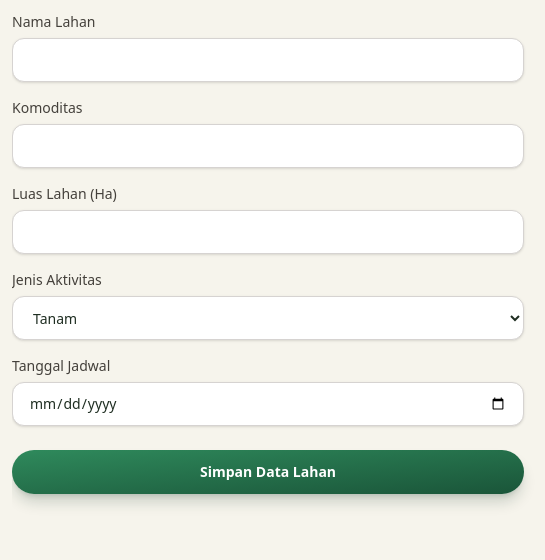
Test: FormEntryClient › submit valid mengirim POST, menampilkan pesan sukses, lalu mengosongkan form
Type "Sawah Uji" into the field labelled "Nama Lahan" at x=268, y=60, box x1=12 y1=38 x2=524 y2=82
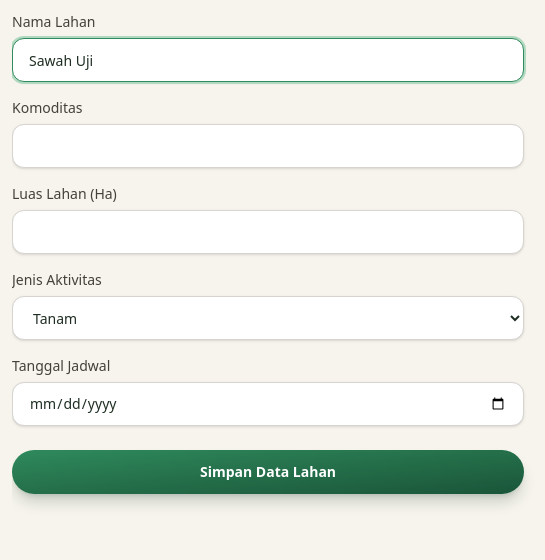
Type "Padi" into the field labelled "Komoditas" at x=268, y=146, box x1=12 y1=124 x2=524 y2=168
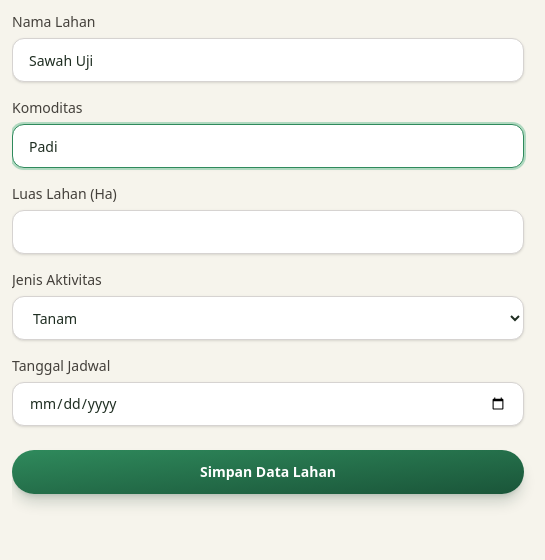
Type "2.5" into the number field labelled "Luas Lahan (Ha)" at x=268, y=232, box x1=12 y1=210 x2=524 y2=254
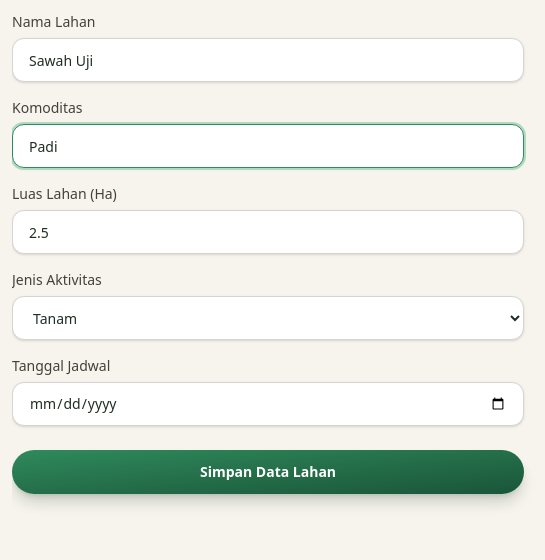
Select "Panen" in the dropdown labelled "Jenis Aktivitas" at x=268, y=318, box x1=12 y1=296 x2=524 y2=340
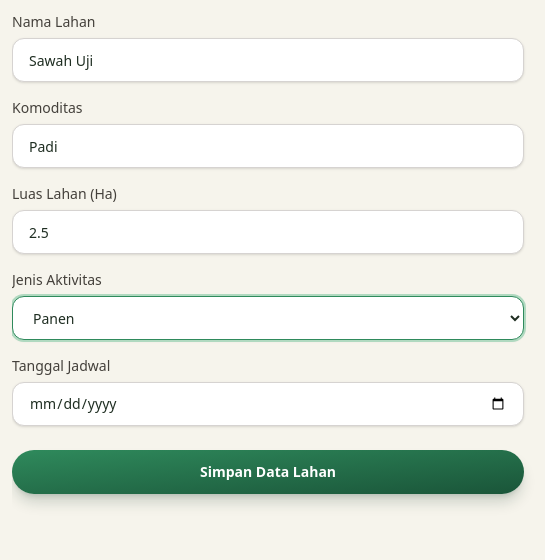
Type "2026-09-25" into the date field labelled "Tanggal Jadwal" at x=268, y=404, box x1=12 y1=382 x2=524 y2=426
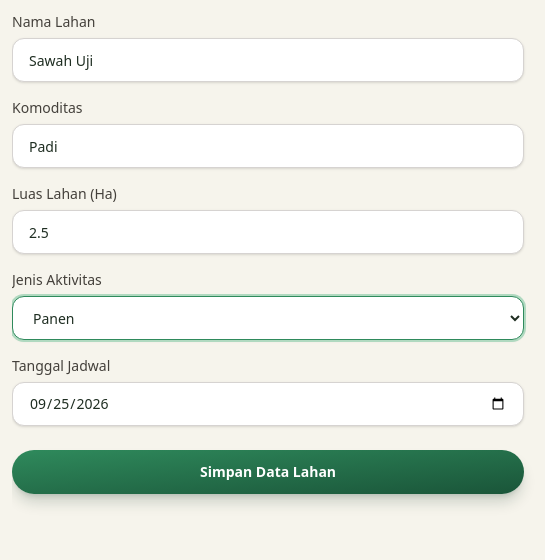
Click the button "Simpan Data Lahan" at x=268, y=472, box x1=12 y1=450 x2=524 y2=494
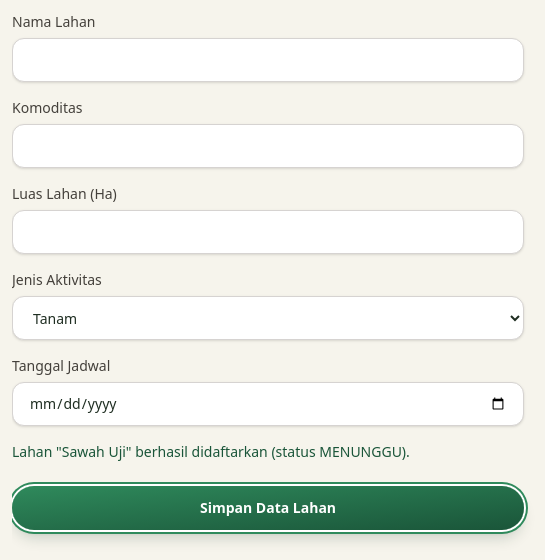
Now the message shows "Lahan \"Sawah Uji\" berhasil didaftarkan", box x1=12 y1=442 x2=410 y2=461
Now the field labelled "Nama Lahan" is empty, box x1=12 y1=38 x2=524 y2=82
